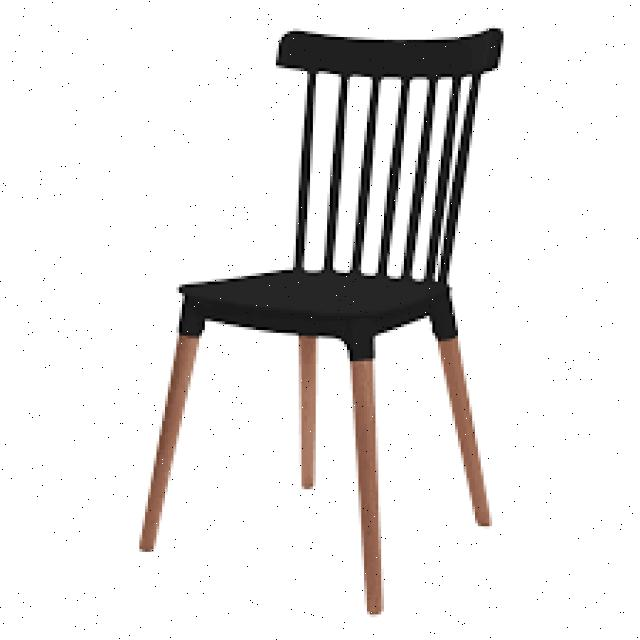bottle: (143, 26, 508, 607)
